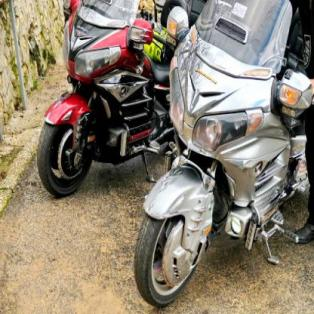Motocicleta: (134, 0, 314, 313), (34, 0, 171, 194)
